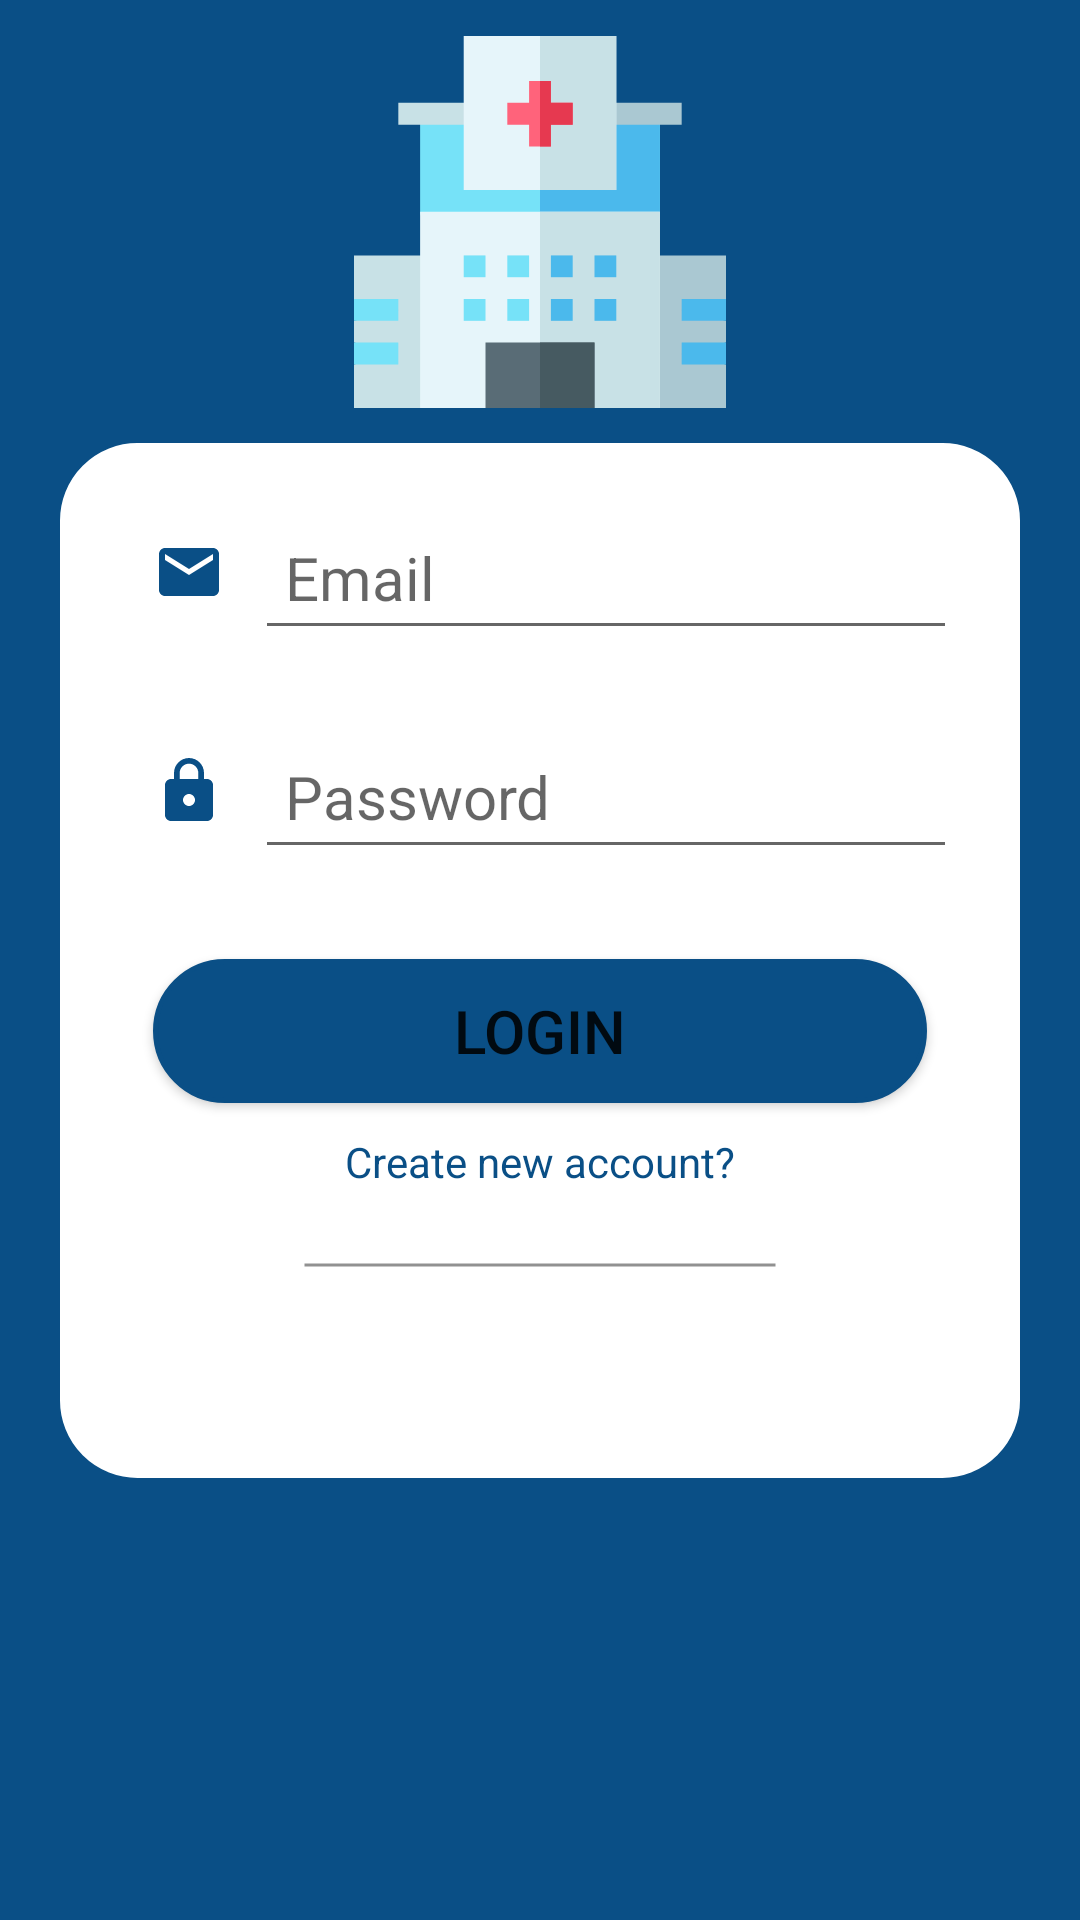

Point at icon controls on the screen. Image size 1080*1920, points as [x,y].
lock: [189,789]
